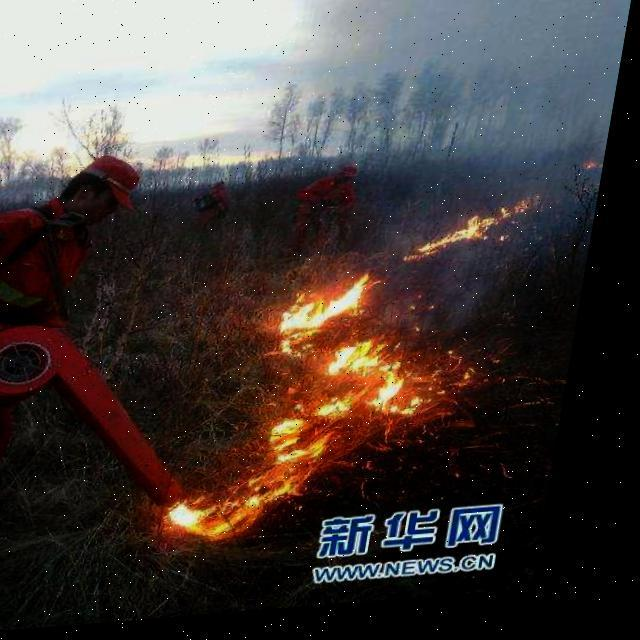Fire: (178, 270, 496, 544), (413, 194, 556, 264)
